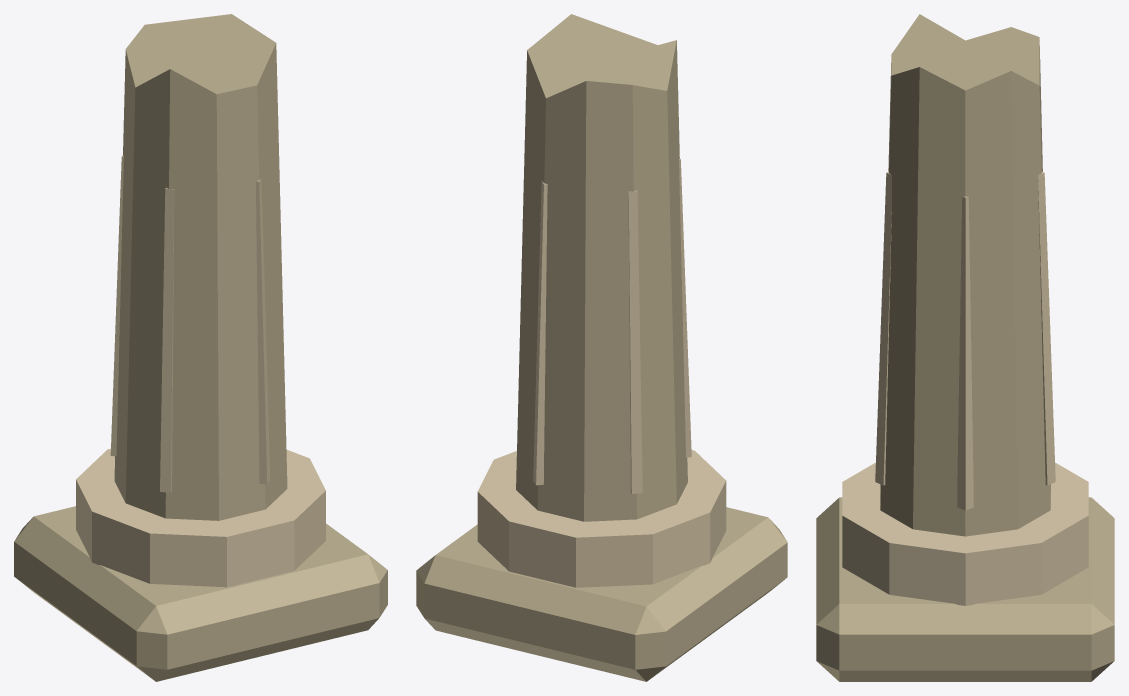
The model's file is site-ruin-column.glb.
3 renders of one model, left to right at view 1: azimuth 30°, elevation 25°; view 2: azimuth 150°, elevation 25°; view 3: azimuth 270°, elevation 25°, orthographic. The views are drawn at different scales.
Visible parts, largest first — view 1: Cube; view 2: Cube; view 3: Cube.
Boxes of the visible parts, x1=… form: Cube: x1=14, y1=14, x2=387, y2=681; Cube: x1=416, y1=14, x2=787, y2=681; Cube: x1=816, y1=14, x2=1114, y2=681.
Size of the model in its own units: 0.18 by 0.3915 by 0.18.
